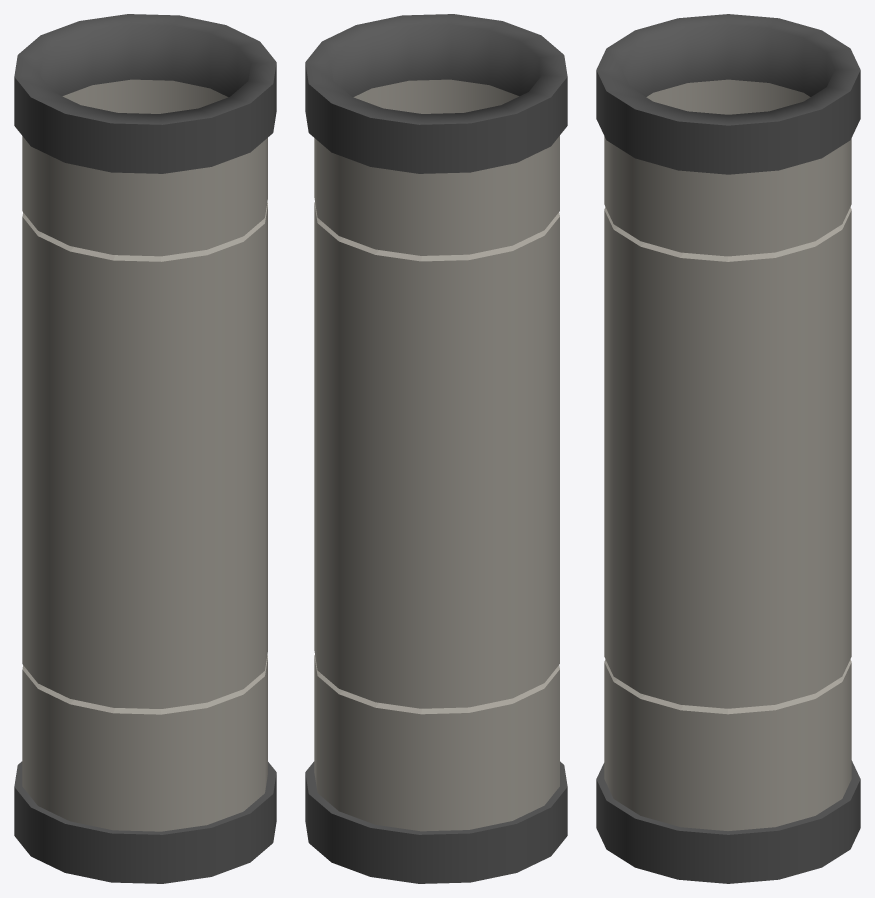
Rendered from pipe_main_short.fbx.
3 renders of one model, left to right at view 1: azimuth 30°, elevation 25°; view 2: azimuth 150°, elevation 25°; view 3: azimuth 270°, elevation 25°, orthographic.
Visible parts, largest first — view 1: pipe_main_short; view 2: pipe_main_short; view 3: pipe_main_short.
Boxes of the visible parts, <box> form: pipe_main_short: <box>14,14,276,883</box>; pipe_main_short: <box>305,14,567,883</box>; pipe_main_short: <box>596,14,860,883</box>.
Size of the model in its own units: 46.39 by 147 by 46.39.
